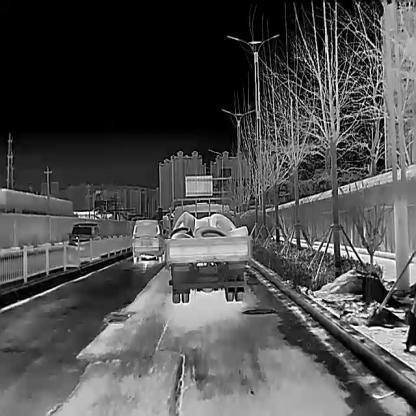car: (165, 197, 251, 303), (131, 218, 164, 263), (68, 222, 100, 254)
